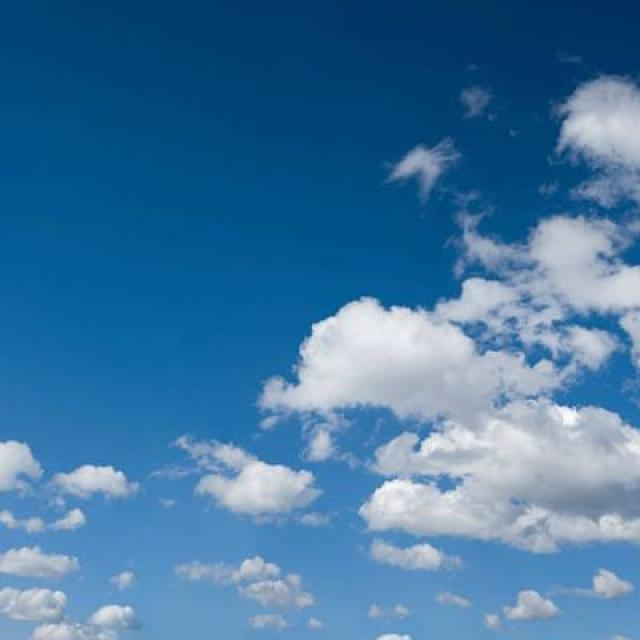Cu: (2, 82, 640, 573)
